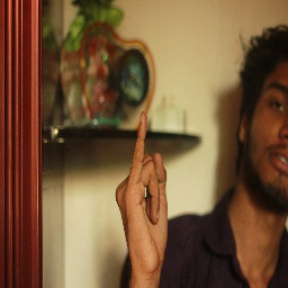I: (115, 110, 173, 258)
